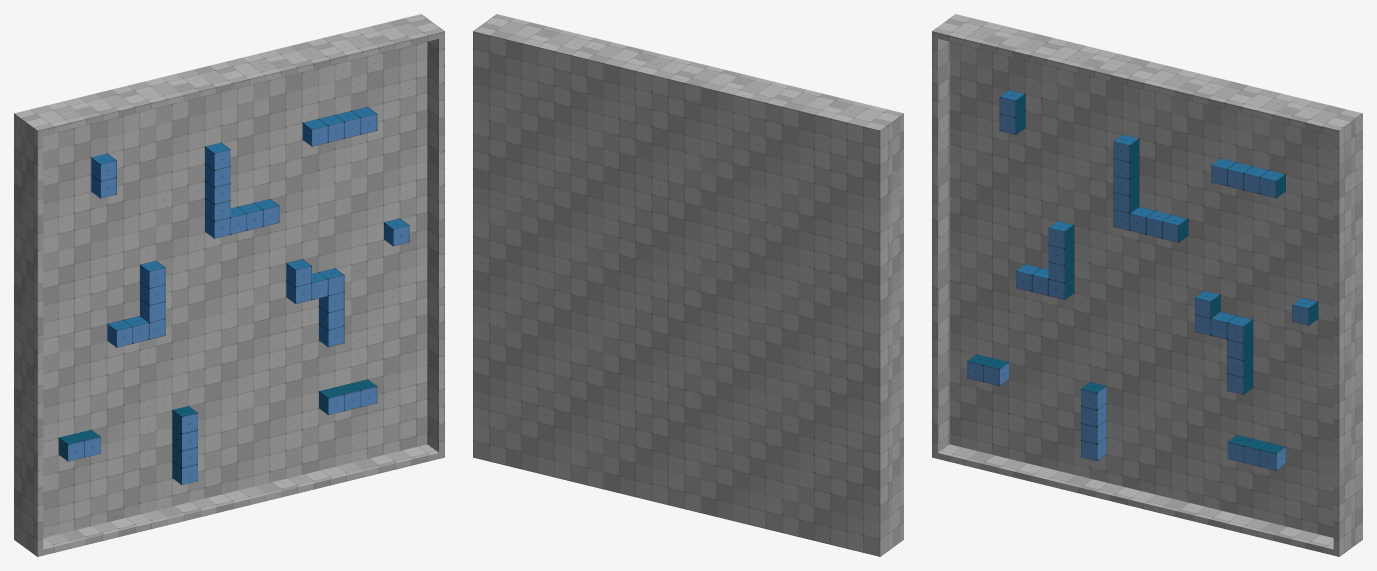
3 views of the same model, side by side, from view 1: azimuth 30°, elevation 25°; view 2: azimuth 150°, elevation 25°; view 3: azimuth 330°, elevation 25° (orthographic).
Parts seen in each view (by area): view 1: Ground, Border, Cube.034, Cube.024, Cube, Cube.020, Cube.026, Cube.033, Cube.029, Cube.010, Cube.012, Cube.036; view 2: Ground, Border; view 3: Ground, Border, Cube.020, Cube.003, Cube.035, Cube.036, Cube.010, Cube.014, Cube.033, Cube.026, Cube.031, Cube (+1 smaller).
Boxes of the visible parts, x1,y1,x2,y2 form: Ground: [14, 14, 432, 547]; Border: [25, 22, 444, 556]; Cube.034: [58, 434, 84, 461]; Cube.024: [302, 119, 328, 146]; Cube: [286, 259, 311, 286]; Cube.020: [205, 142, 230, 170]; Cube.026: [172, 406, 197, 433]; Cube.033: [91, 153, 116, 181]; Cube.029: [319, 387, 344, 414]; Cube.010: [140, 261, 165, 288]; Cube.012: [107, 320, 132, 347]; Cube.036: [384, 218, 409, 246]; Ground: [473, 22, 892, 556]; Border: [485, 14, 903, 547]; Ground: [944, 14, 1362, 547]; Border: [932, 22, 1351, 556]; Cube.020: [1113, 134, 1139, 162]; Cube.003: [1227, 316, 1253, 343]; Cube.035: [983, 358, 1009, 386]; Cube.036: [1292, 298, 1318, 325]; Cube.010: [1048, 221, 1074, 248]; Cube.014: [1162, 215, 1188, 242]; Cube.033: [999, 90, 1025, 117]; Cube.026: [1081, 382, 1106, 409]; Cube.031: [1260, 443, 1285, 470]; Cube: [1195, 291, 1220, 318].
Size of the model in its own units: 50 by 50 by 5.
Materials: 2 (2 with a texture image).
